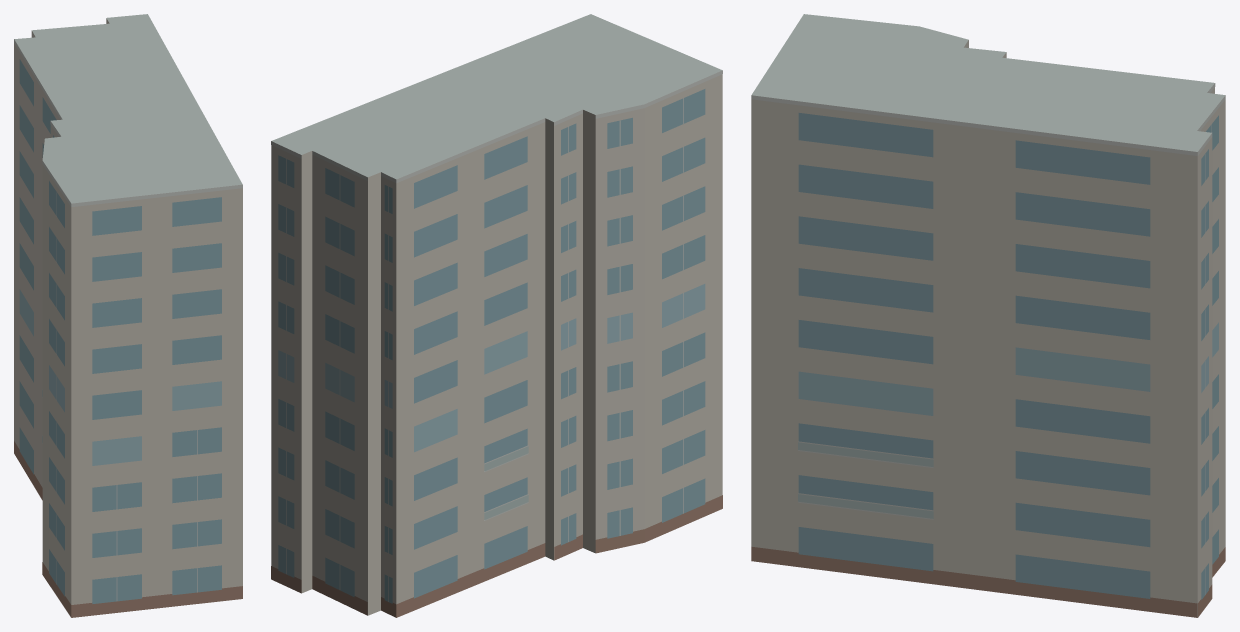
File: survey-upis-32723462.glb
3 views of the same model, side by side, from view 1: azimuth 30°, elevation 25°; view 2: azimuth 150°, elevation 25°; view 3: azimuth 270°, elevation 25° (orthographic). The views are drawn at different scales.
Visible parts, largest first — view 1: survey-upis-32723462.tmp; view 2: survey-upis-32723462.tmp; view 3: survey-upis-32723462.tmp.
Boxes of the visible parts, x1,y1,x2,y2 form: survey-upis-32723462.tmp: [14, 14, 242, 617]; survey-upis-32723462.tmp: [271, 14, 722, 617]; survey-upis-32723462.tmp: [751, 14, 1225, 617].
Size of the model in its own units: 17.8 by 28 by 25.85.
